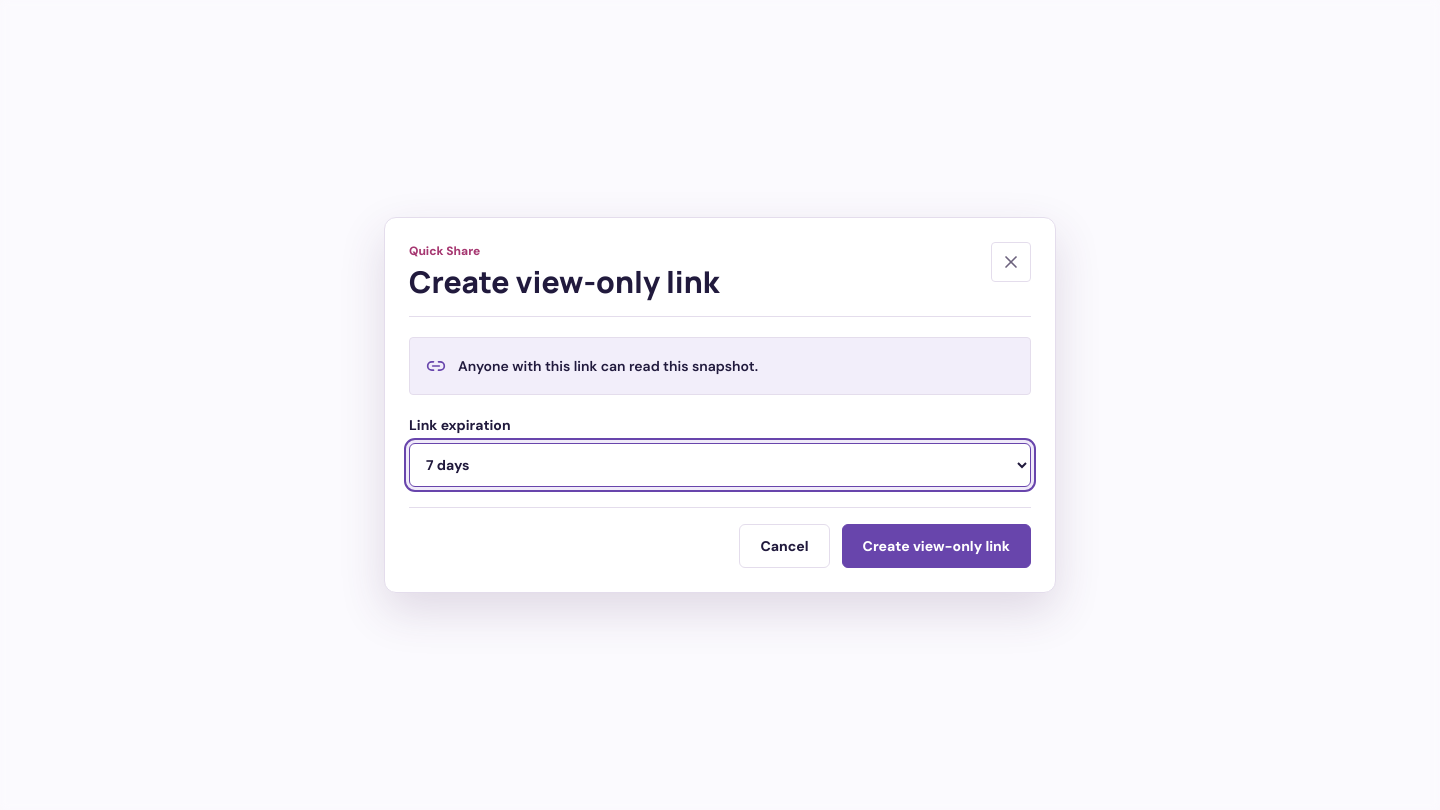
QuickShareDialog › defaults to seven days and stores the returned creator token locally
Expected: the dropdown labelled "Link expiration" shows "7 days", top-left (409, 443), bottom-right (1031, 487)
What coordinates should you click on to do the following:
click the button "Create view-only link"
I would click on:
 (936, 546)
Its box is top-left (842, 524), bottom-right (1031, 568).
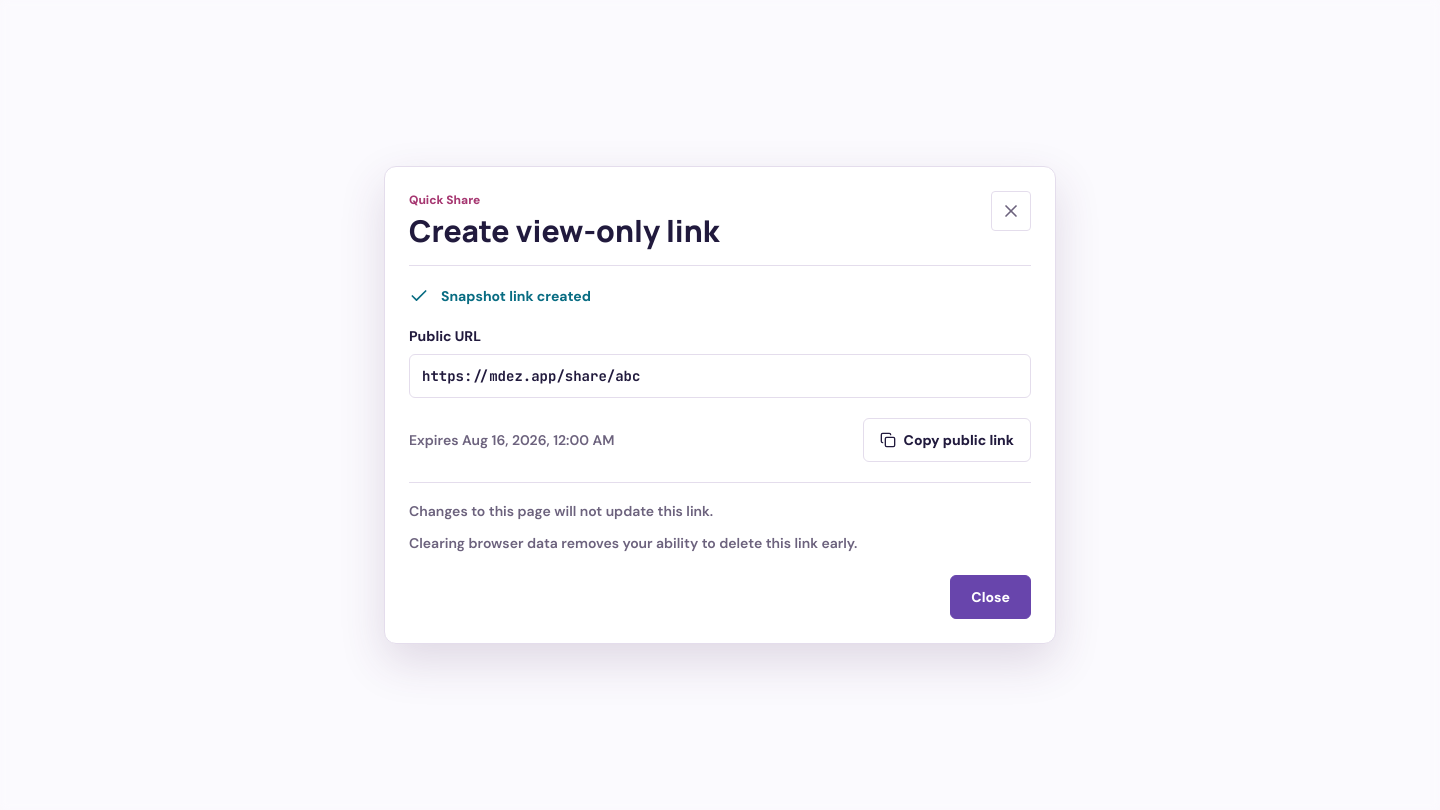
Expected: the field showing "https://mdez.app/share/abc" is shown, top-left (409, 354), bottom-right (1031, 398)
